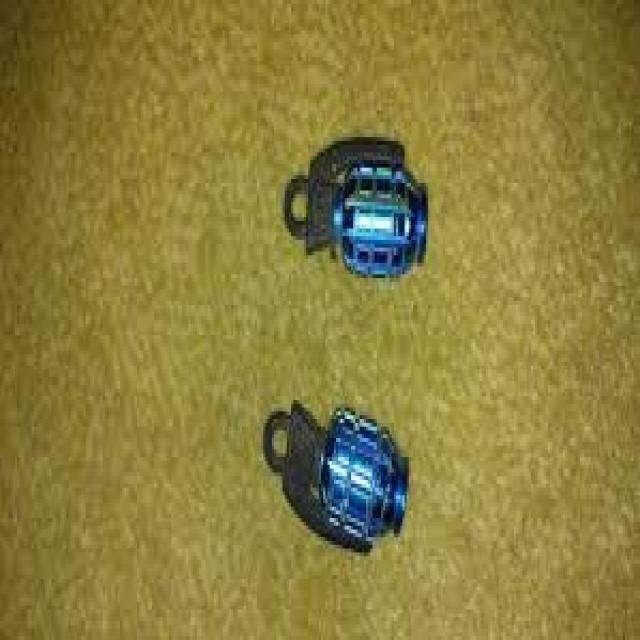grenade: (262, 400, 413, 566), (280, 138, 433, 285)
